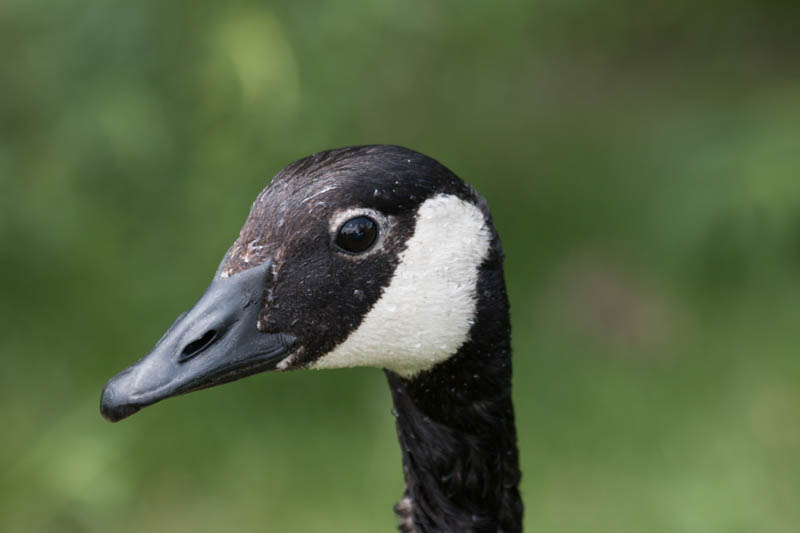goose-head: (99, 143, 507, 424)
